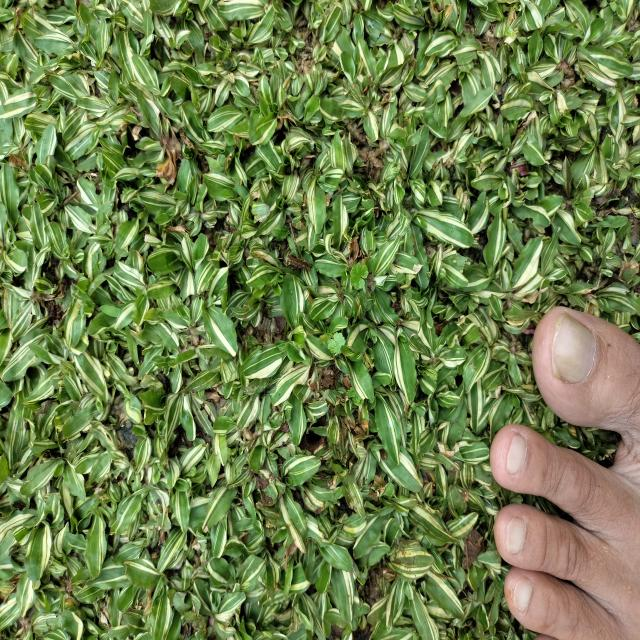masker: (348, 259, 370, 292), (326, 329, 347, 358)
